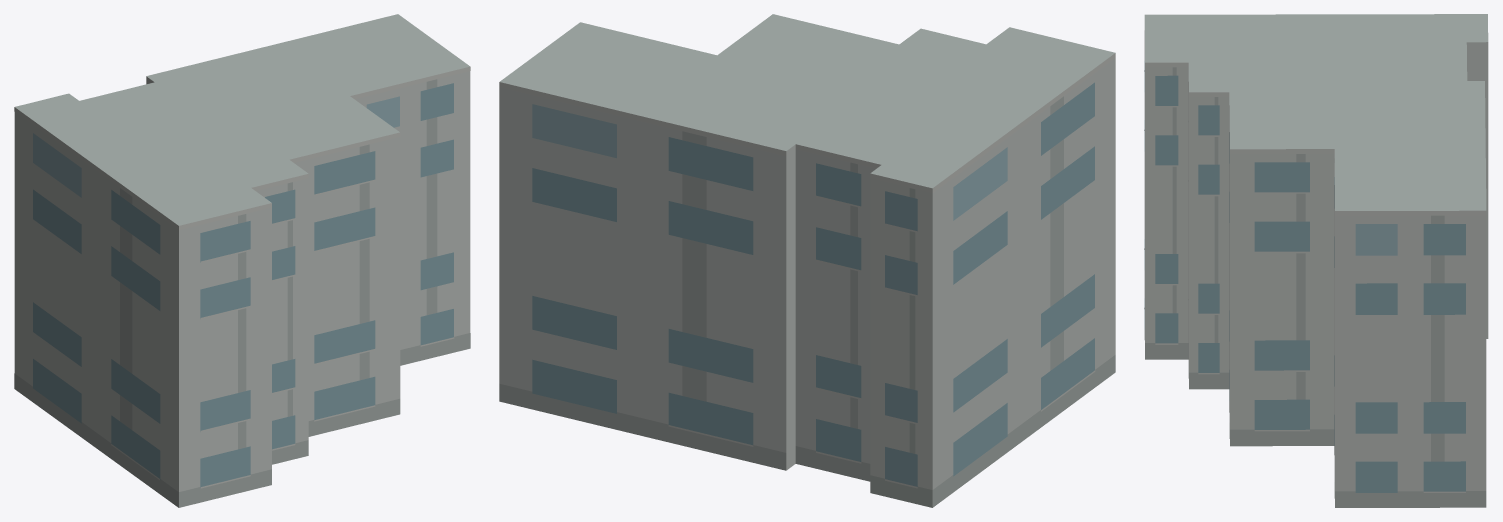
The model's file is residential-754b6fa7-ed22-4153-ad06-d272185a4a7b.glb.
3 renders of one model, left to right at view 1: azimuth 30°, elevation 25°; view 2: azimuth 150°, elevation 25°; view 3: azimuth 270°, elevation 25°, orthographic. The views are drawn at different scales.
Visible parts, largest first — view 1: residential-754b6fa7-ed22-4153-ad06-d272185a4a7b.tmp; view 2: residential-754b6fa7-ed22-4153-ad06-d272185a4a7b.tmp; view 3: residential-754b6fa7-ed22-4153-ad06-d272185a4a7b.tmp.
Boxes of the visible parts, x1,y1,x2,y2 form: residential-754b6fa7-ed22-4153-ad06-d272185a4a7b.tmp: (14,14,470,507); residential-754b6fa7-ed22-4153-ad06-d272185a4a7b.tmp: (499,14,1115,507); residential-754b6fa7-ed22-4153-ad06-d272185a4a7b.tmp: (1144,14,1488,507).
Bounding box in the file's own units: 21.71 × 15.25 × 16.01.
